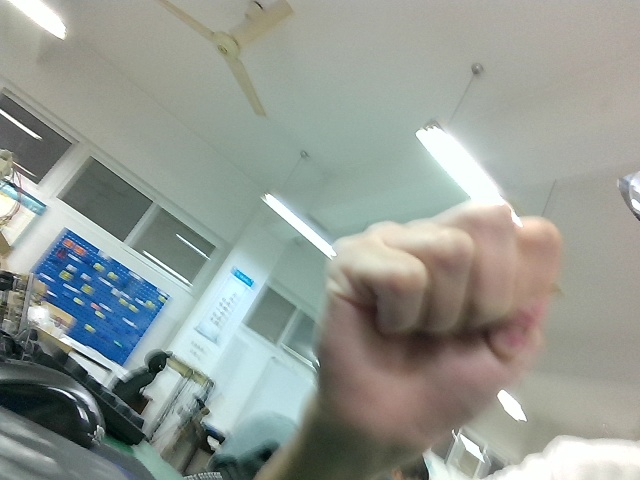stone: (307, 171, 568, 442)
